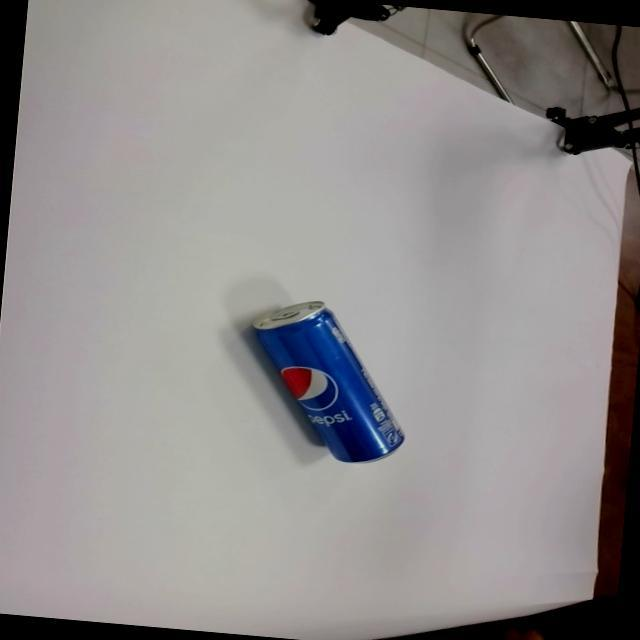debris: (239, 293, 416, 469)
